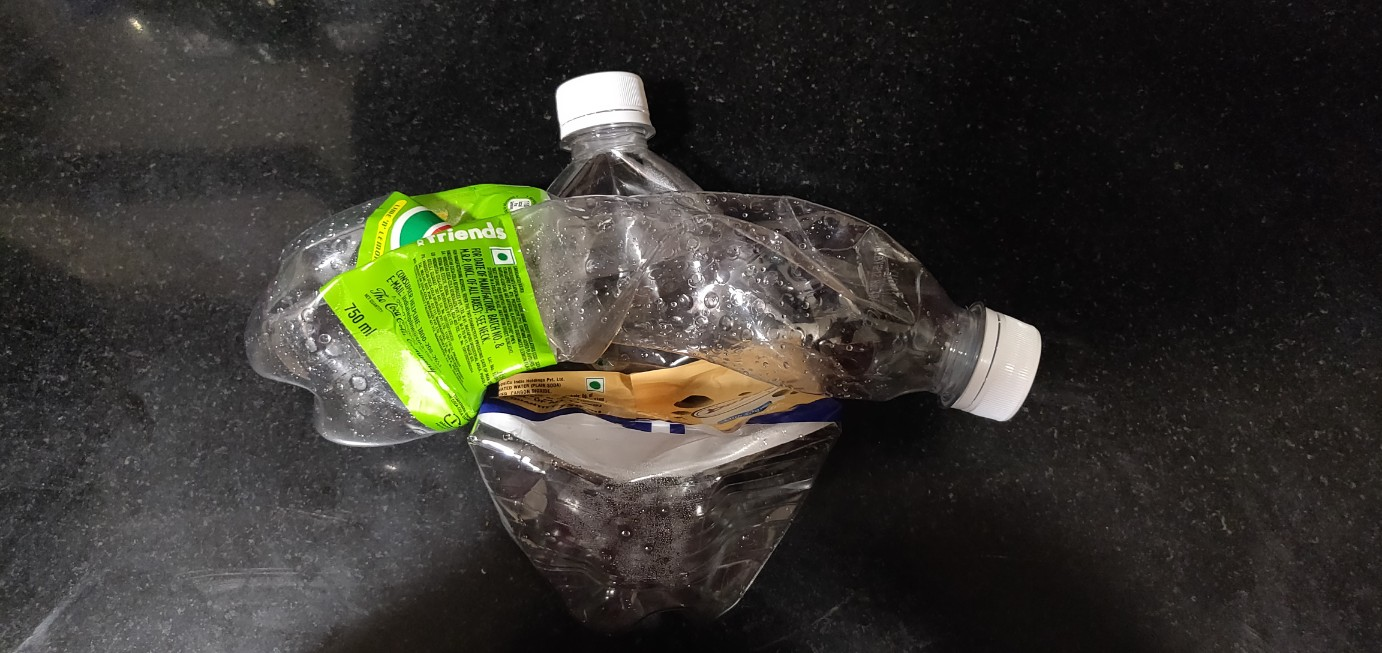Electronics: (195, 170, 1079, 480), (451, 55, 867, 640)
